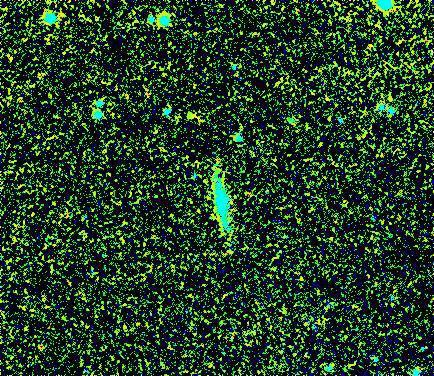star: (177, 101, 207, 131)
